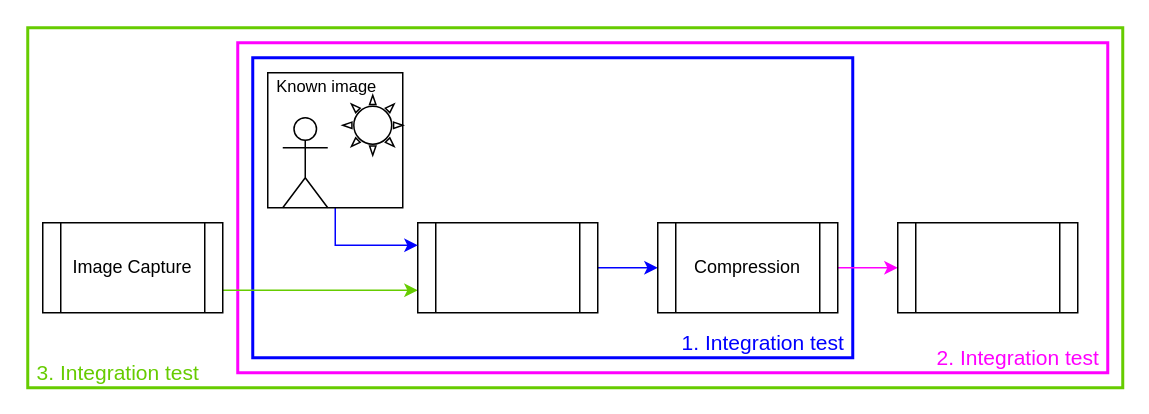
Image size: 1149x414. Some labels were removed from this diagram. Here are the shapes that lost their labels. From the top down, the box of each, then its label:
(416, 221, 598, 313): Fire Detection
(896, 221, 1078, 313): Transfer of image
